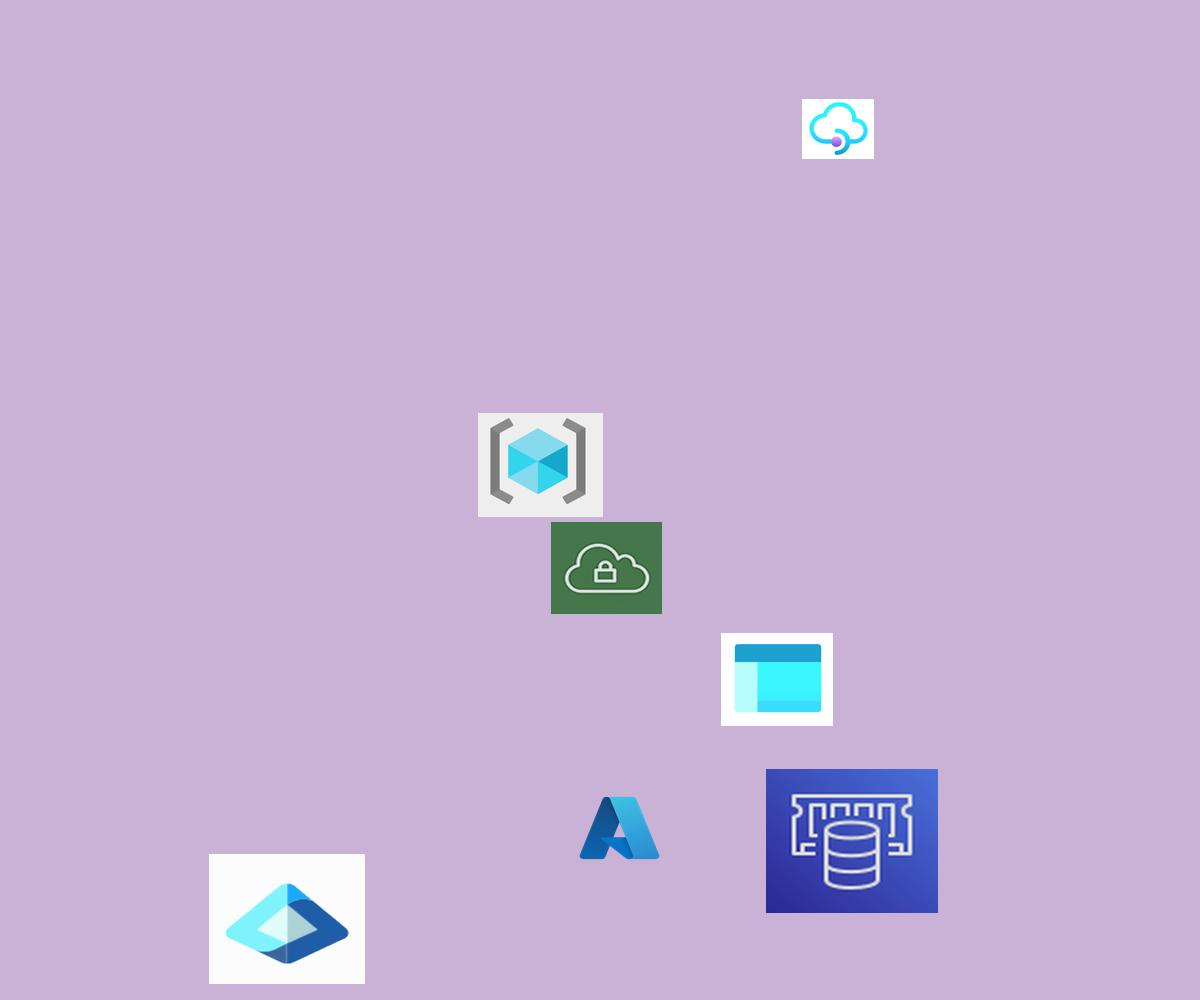AWS-ElastiCache: (766, 769, 938, 913)
AWS-Private_vpc: (551, 522, 662, 614)
Azure_api_gateway: (802, 99, 874, 159)
Azure_management-portal: (721, 633, 833, 726)
Azure_microsoft_entra: (209, 854, 365, 984)
Azure_resource_group: (478, 413, 603, 517)
Azure_services: (576, 792, 663, 864)
